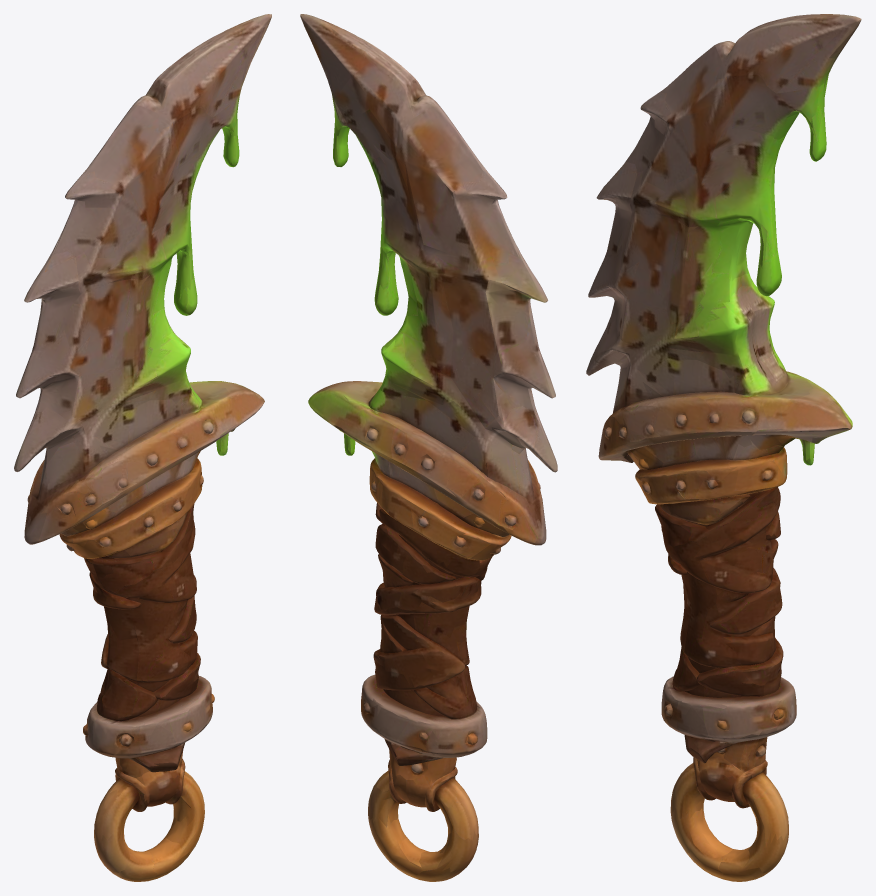
File: dagger.glb
3 views of the same model, side by side, from view 1: azimuth 30°, elevation 25°; view 2: azimuth 150°, elevation 25°; view 3: azimuth 330°, elevation 25° (orthographic). The views are drawn at different scales.
Visible parts, largest first — view 1: Mesh_0; view 2: Mesh_0; view 3: Mesh_0.
Part boxes in pixels (x1=…): Mesh_0: x1=14, y1=14, x2=271, y2=881; Mesh_0: x1=300, y1=14, x2=557, y2=881; Mesh_0: x1=586, y1=14, x2=861, y2=881.
Size of the model in its own units: 0.6119 by 1.9 by 0.2266.
1 material, 1 textured.
